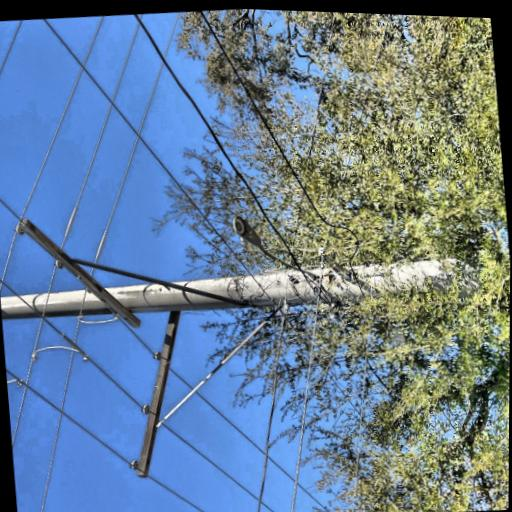pole: (61, 13, 160, 512)
vegetation_encroachment: (76, 390, 173, 512)
